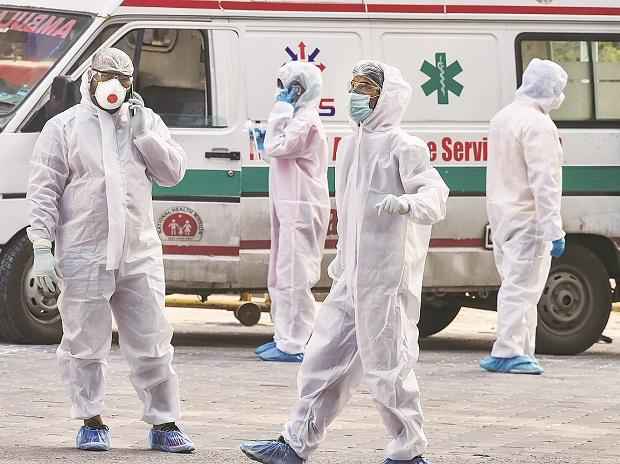Coverall: (284, 61, 451, 437), (27, 46, 186, 424), (480, 56, 567, 352), (261, 62, 327, 337)
Gloves: (28, 243, 62, 295), (375, 193, 407, 220)
with_mask: (343, 78, 390, 125), (94, 74, 130, 111)
